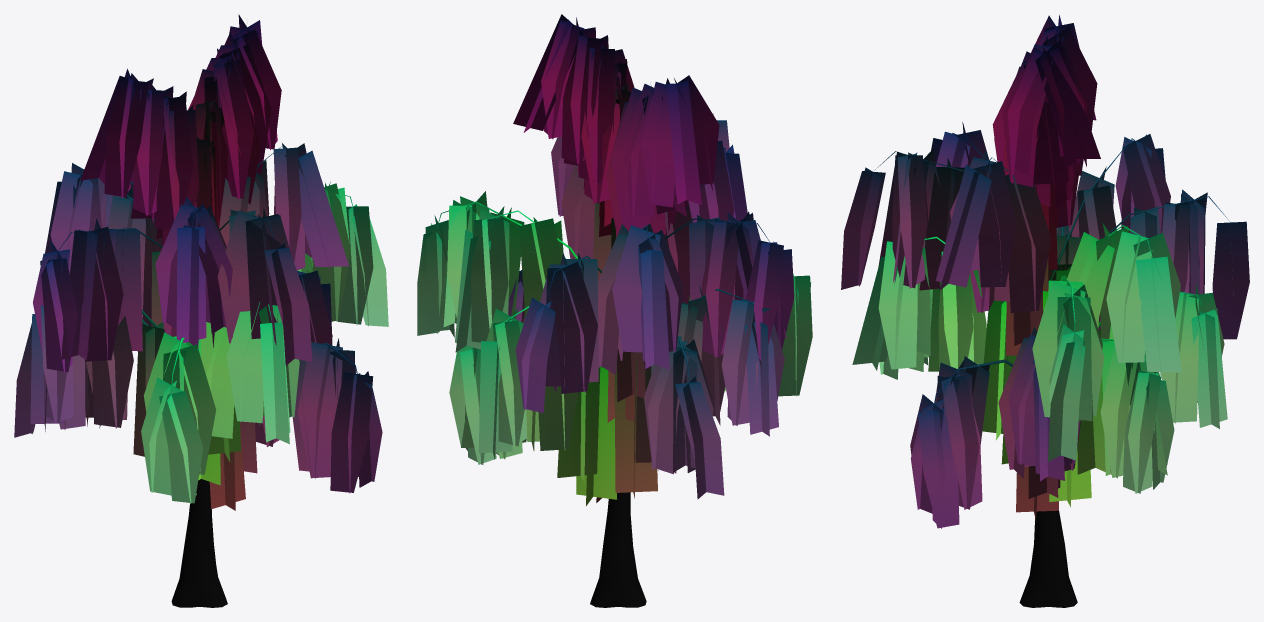
Rendered from Tree_7_7.fbx.
3 renders of one model, left to right at view 1: azimuth 30°, elevation 25°; view 2: azimuth 150°, elevation 25°; view 3: azimuth 270°, elevation 25°, orthographic.
Parts seen in each view (by area): view 1: _7; view 2: _7; view 3: _7.
Part boxes in pixels (left/top/right/bottom): _7: left=14, top=14, right=388, bottom=607; _7: left=417, top=14, right=812, bottom=607; _7: left=841, top=15, right=1249, bottom=607.
Bounding box in the file's own units: 956 × 1480 × 945.
